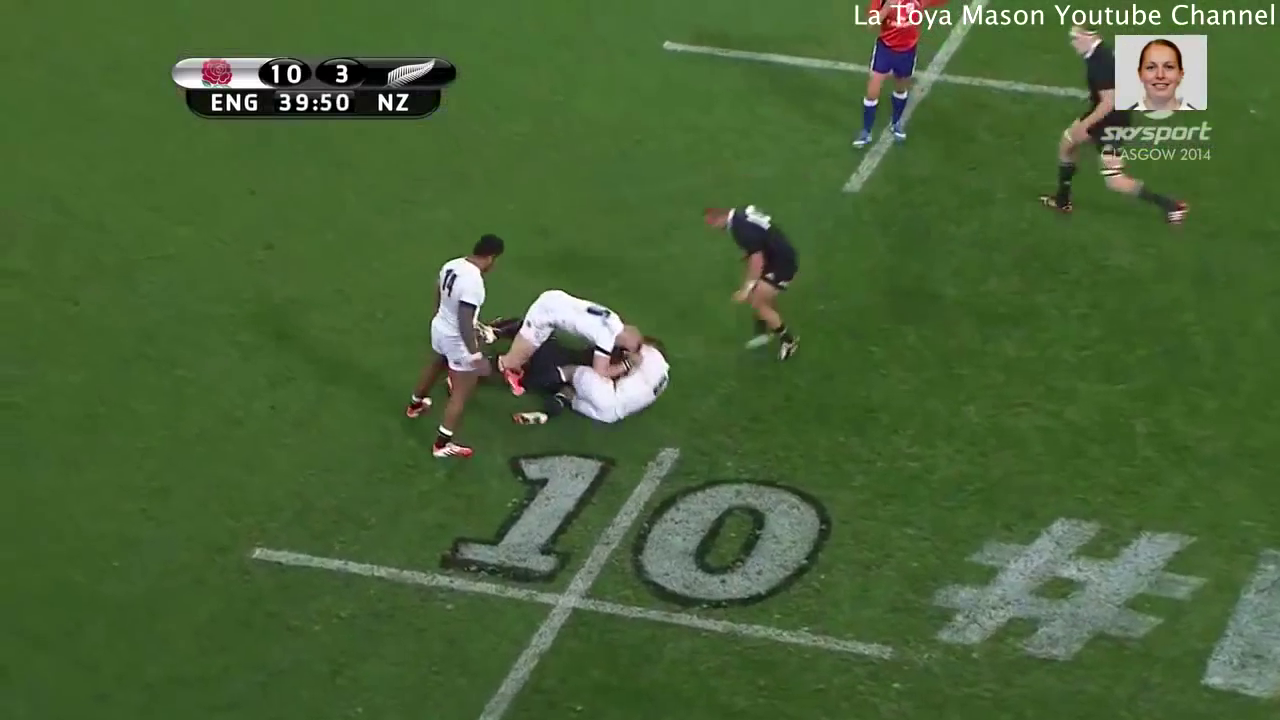10_metre: (237, 438, 909, 720), (655, 5, 1133, 199)
player: (387, 228, 521, 464), (1048, 30, 1189, 233), (701, 192, 810, 361), (536, 328, 683, 432), (848, 1, 939, 155), (491, 280, 638, 349)
ruck: (499, 276, 680, 438)
